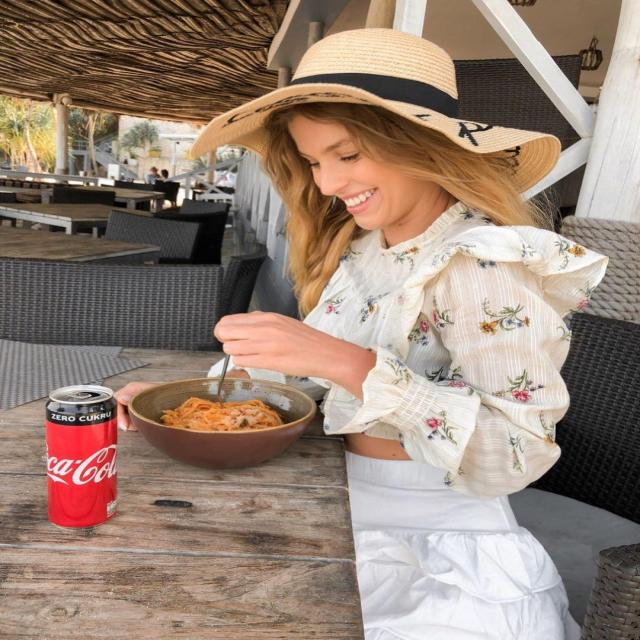coca-cola: (42, 380, 122, 530)
